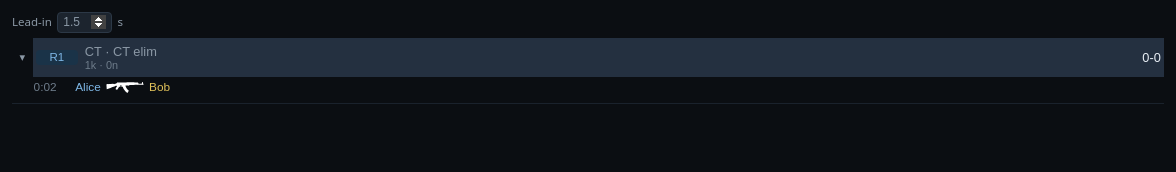
Test case: RoundList › collapses an expanded round
Click the button named "Collapse round" at (22, 58), box 12,38 -> 33,77
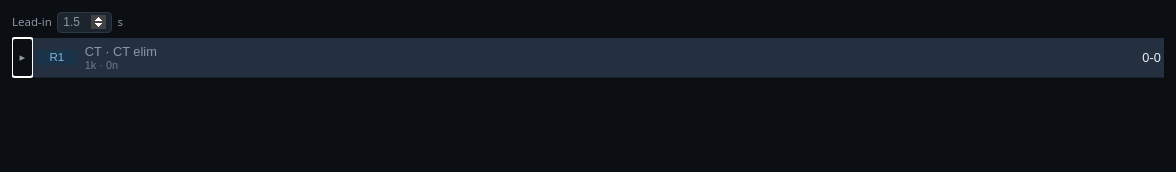
Check: the button "Alice" is gone
